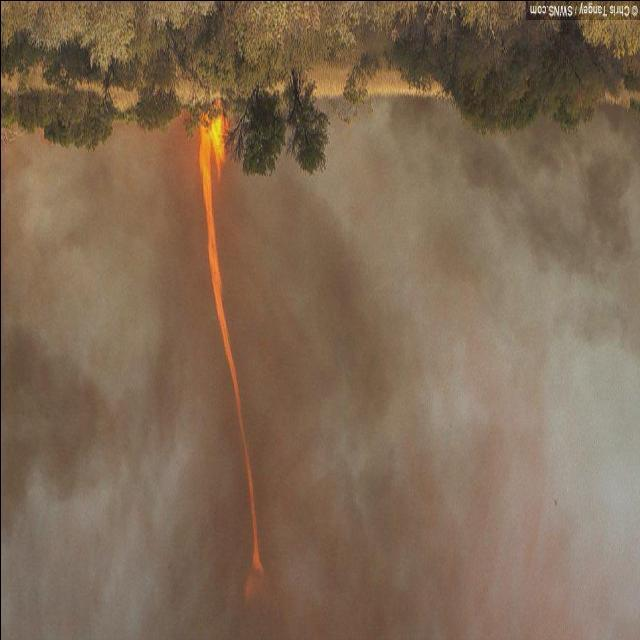Fire: (198, 127, 270, 575)
